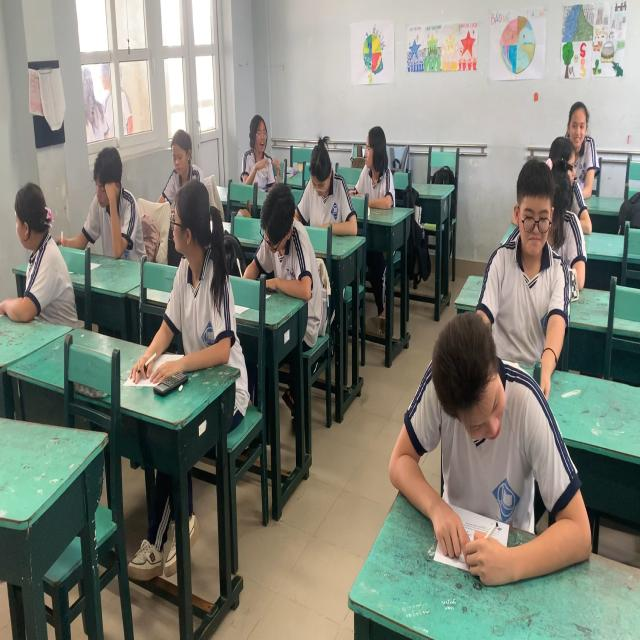cheating: (166, 174, 236, 354), (349, 119, 402, 218), (235, 108, 278, 184)
not_cheating: (387, 298, 575, 596), (495, 160, 575, 360), (5, 177, 70, 319), (250, 177, 312, 301), (89, 142, 141, 264), (299, 136, 353, 239), (565, 100, 598, 198), (161, 122, 202, 194)
